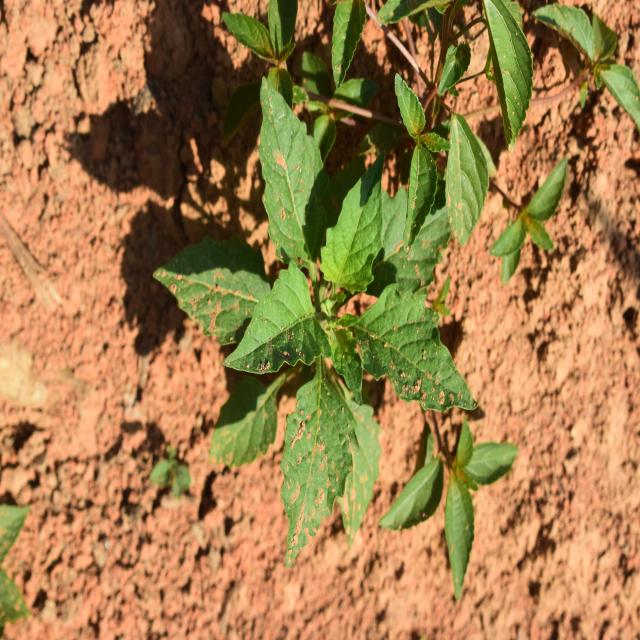Black_nightshade: (177, 123, 449, 518)
